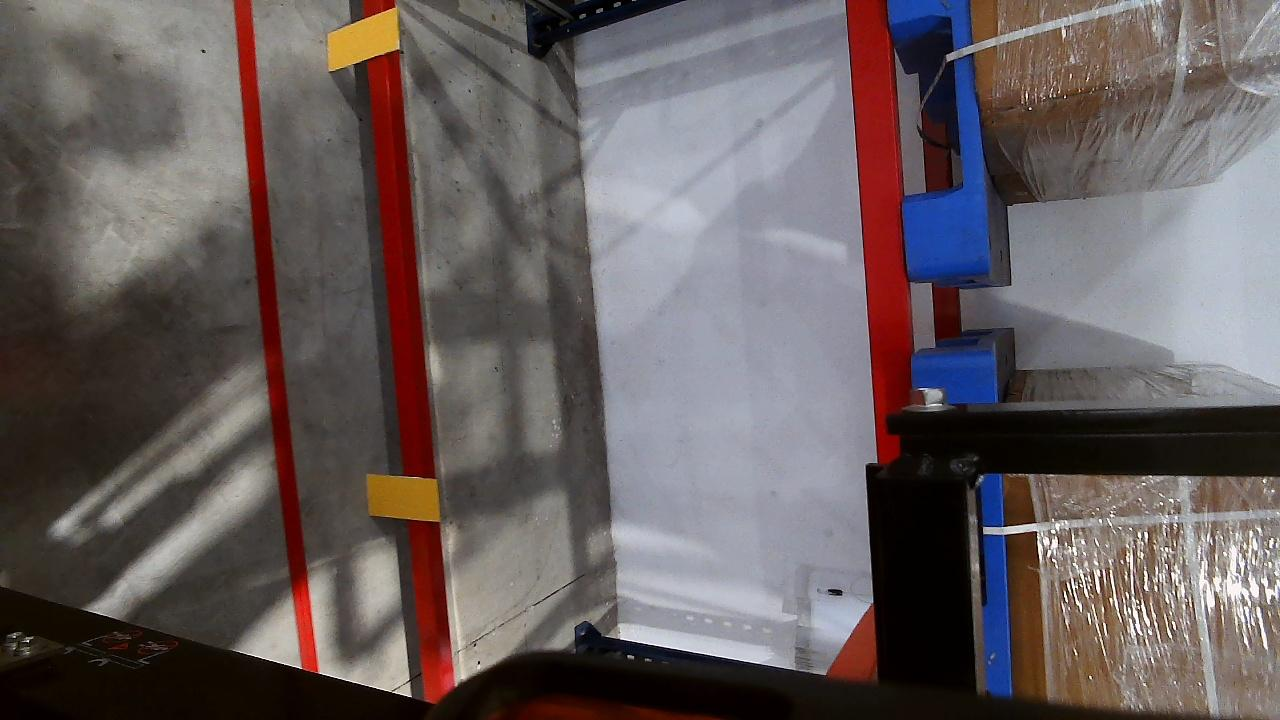h_rack: (364, 51, 439, 654), (844, 1, 917, 460)
orange_strip: (327, 8, 402, 68), (365, 474, 439, 522)
red_line: (228, 0, 305, 598)
small_pallet: (887, 3, 994, 272)
